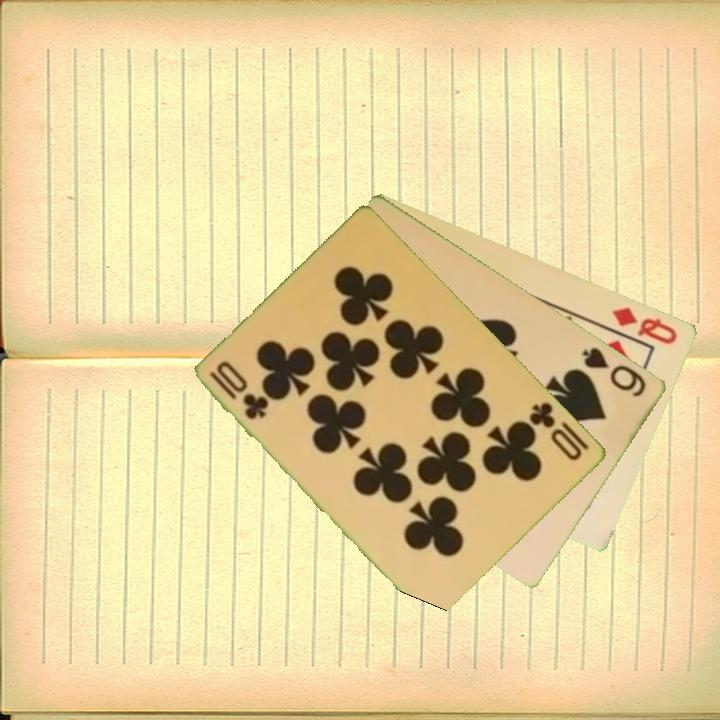10c: (526, 398, 593, 464), (206, 357, 272, 423)
6s: (579, 343, 650, 400)
Qd: (609, 303, 681, 347)
